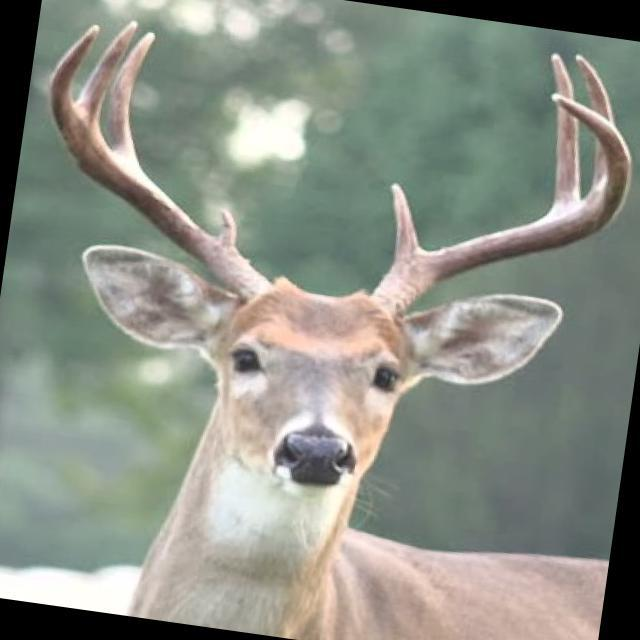L-F: (375, 93, 631, 311)
L-G1: (390, 182, 429, 267)
R-F: (50, 23, 269, 296)
R-G1: (216, 207, 238, 250)
R-G2: (106, 32, 156, 164)
R-G3: (75, 19, 139, 136)
